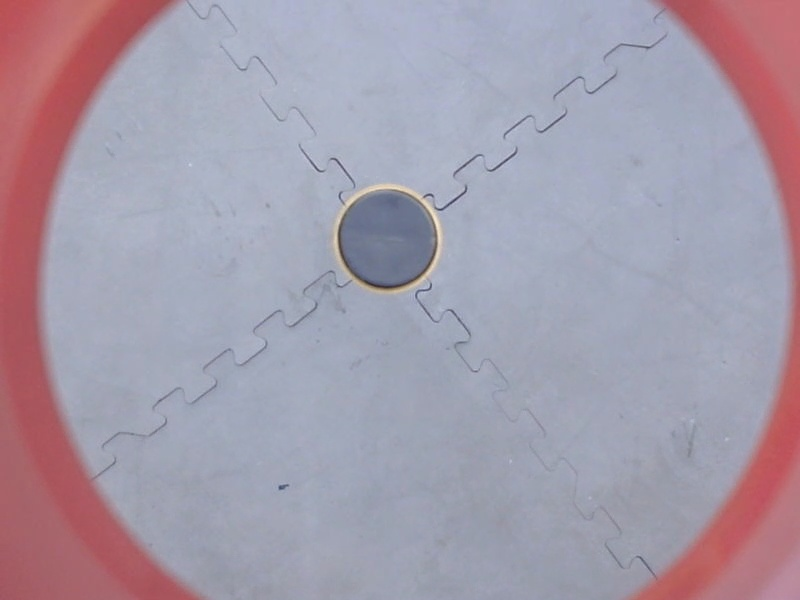tip: (328, 180, 448, 301)
